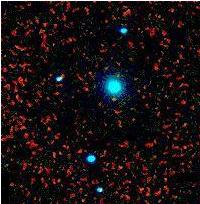star: (98, 85, 128, 115)
